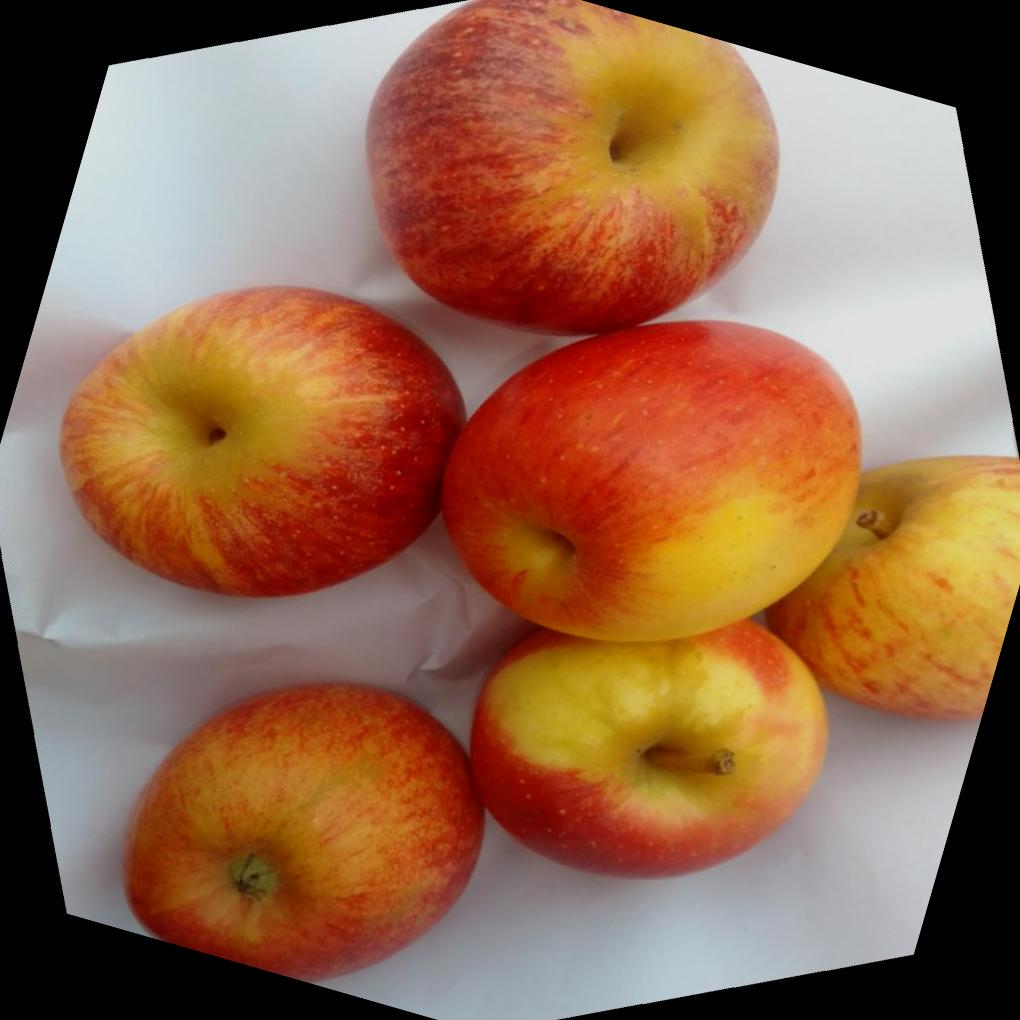FreshGuava: (55, 0, 1020, 975)
